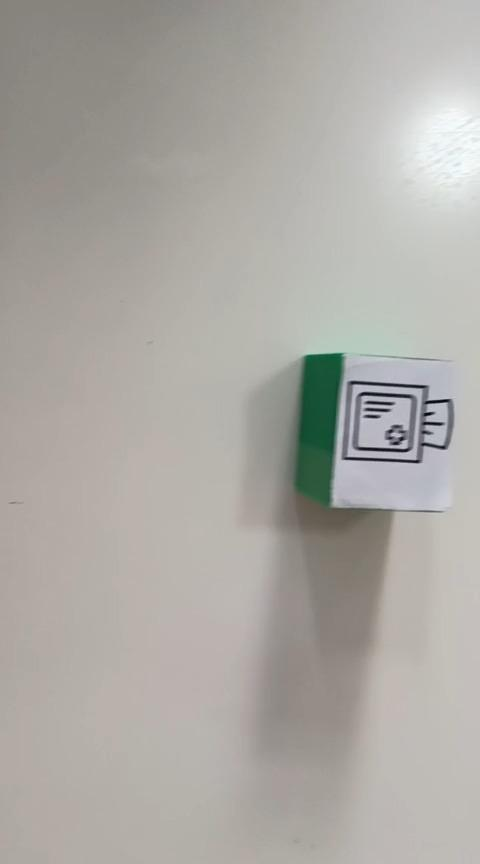Gauze: (293, 350, 456, 513)
